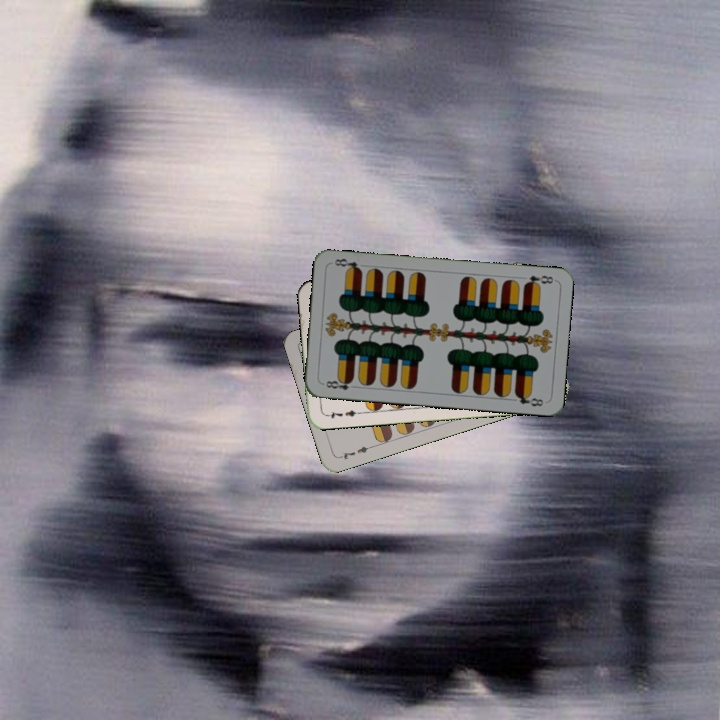E7: (335, 442, 375, 462), (322, 406, 362, 421)
E8: (319, 375, 359, 392), (520, 271, 556, 289)
